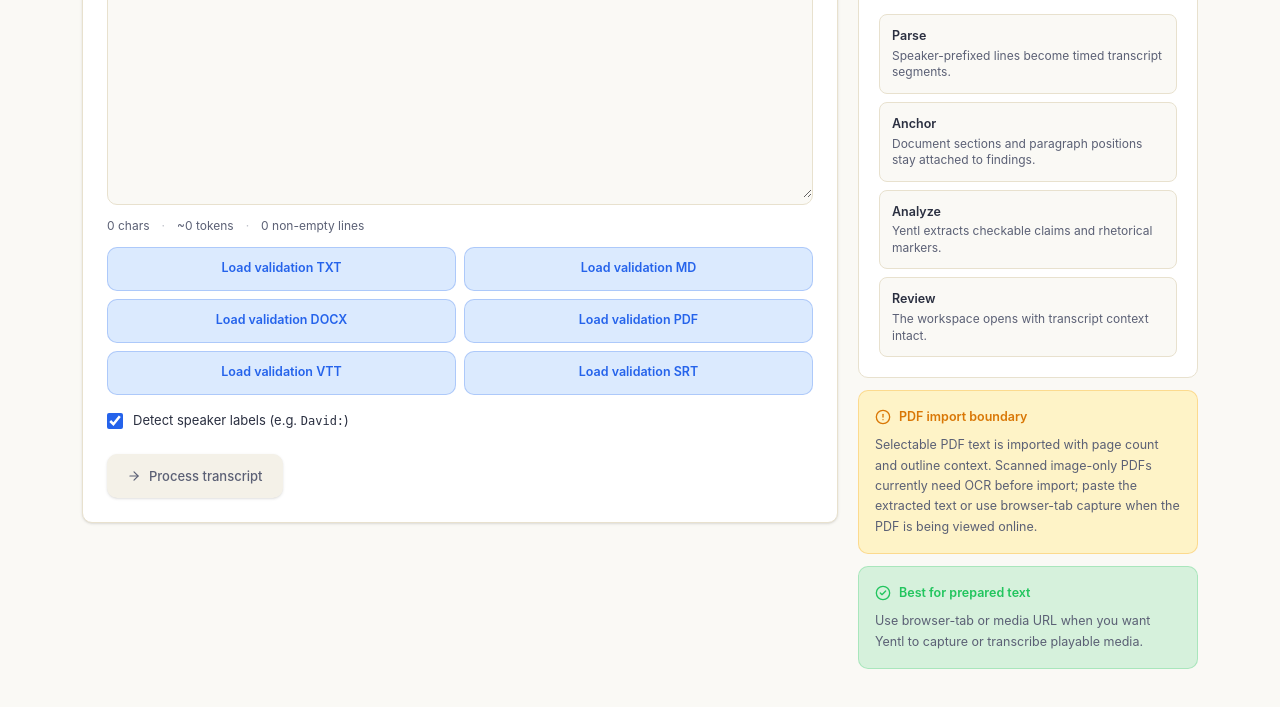
TextIngestPane — file drop › loads the validation VTT fixture as timed caption cues
(page scrolled)
Click the button "Load validation VTT". click: (282, 373)
box: x1=107 y1=351 x2=456 y2=395
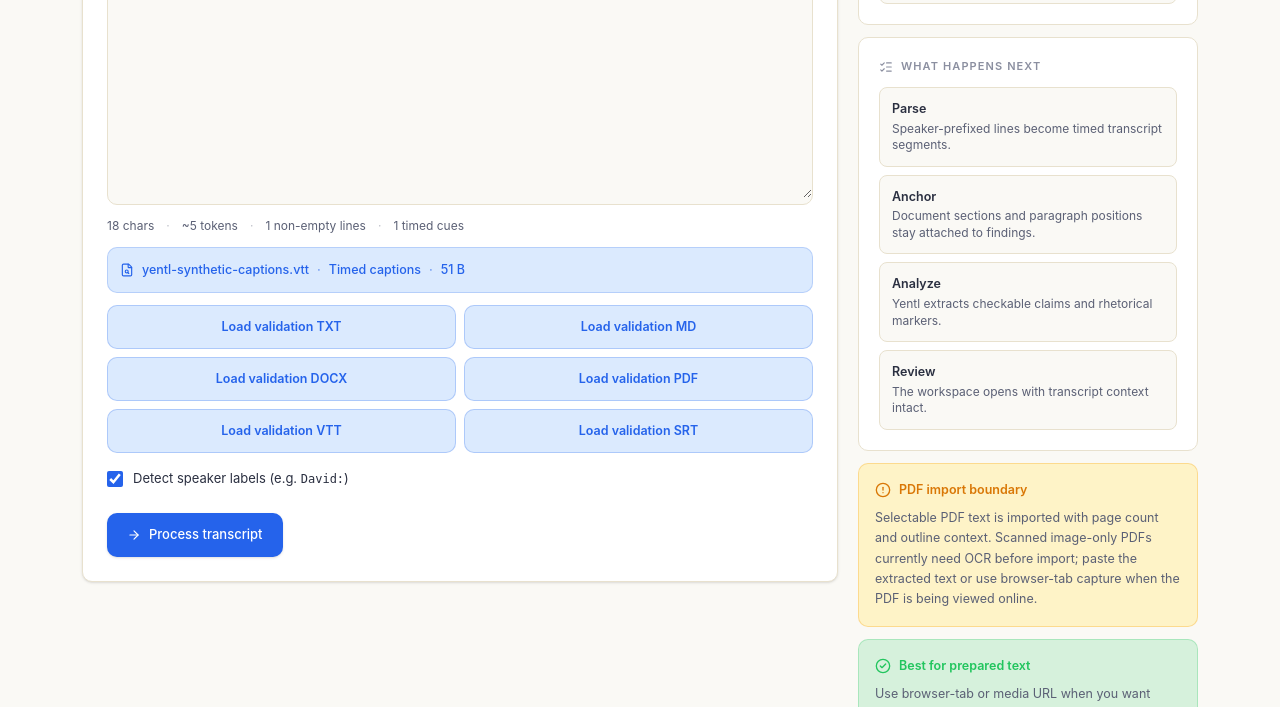
Check: the text "1 timed cues" is shown, box x1=393 y1=217 x2=464 y2=235
